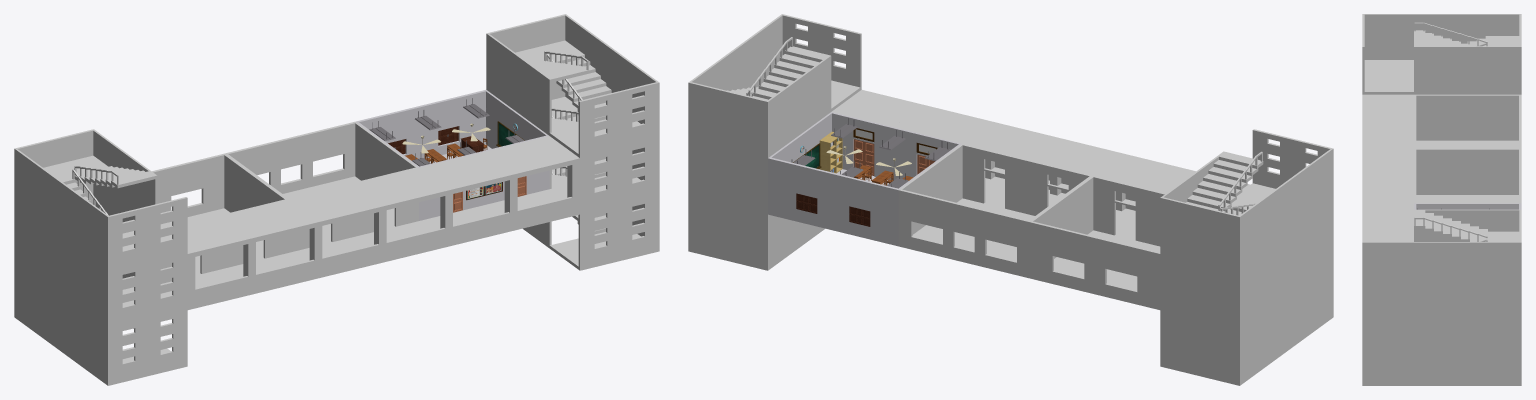
The model's file is school true01.fbx.
3 views of the same model, side by side, from view 1: azimuth 30°, elevation 25°; view 2: azimuth 150°, elevation 25°; view 3: azimuth 270°, elevation 25° (orthographic). The views are drawn at different scales.
Visible parts, largest first — view 1: Cube.002, Cube.007, Cube.010, Cube.005, Cube.009, Cube.003, Cube.001, Cube.004, Cube.008, Cube.006; view 2: Cube.007, Cube.010, Cube.003, Cube.004, Cube.002, Cube.001, Cube.005, Cube.009, Cube.008, Cube.006, Cube.014; view 3: Cube.010, Cube.007, Cube.006, Cube.008, Cube.002, Cube.003, Cube.004, Cube.001.
Part boxes in pixels (x1,y1,x2,y2): Cube.002: [161, 136, 579, 309]; Cube.007: [486, 14, 659, 158]; Cube.010: [14, 129, 187, 273]; Cube.005: [14, 187, 187, 329]; Cube.009: [14, 261, 187, 385]; Cube.003: [225, 121, 418, 252]; Cube.001: [356, 90, 549, 220]; Cube.004: [152, 153, 287, 283]; Cube.008: [523, 166, 659, 270]; Cube.006: [549, 81, 659, 214]; Cube.007: [688, 14, 861, 158]; Cube.010: [1160, 129, 1333, 273]; Cube.003: [898, 144, 1092, 278]; Cube.004: [1029, 176, 1165, 309]; Cube.002: [831, 90, 1250, 239]; Cube.001: [768, 112, 961, 246]; Cube.005: [1160, 205, 1333, 329]; Cube.009: [1160, 261, 1333, 385]; Cube.008: [688, 195, 824, 270]; Cube.006: [688, 139, 767, 214]; Cube.014: [819, 131, 842, 173]; Cube.010: [1362, 14, 1521, 94]; Cube.007: [1362, 209, 1521, 290]; Cube.006: [1362, 290, 1521, 338]; Cube.008: [1362, 338, 1521, 385]; Cube.002: [1362, 94, 1413, 241]; Cube.003: [1414, 149, 1521, 203]; Cube.004: [1414, 94, 1521, 148]; Cube.001: [1414, 203, 1521, 209].
Size of the model in its own units: 56590 by 17466 by 16669.
28 materials, 11 textured.
